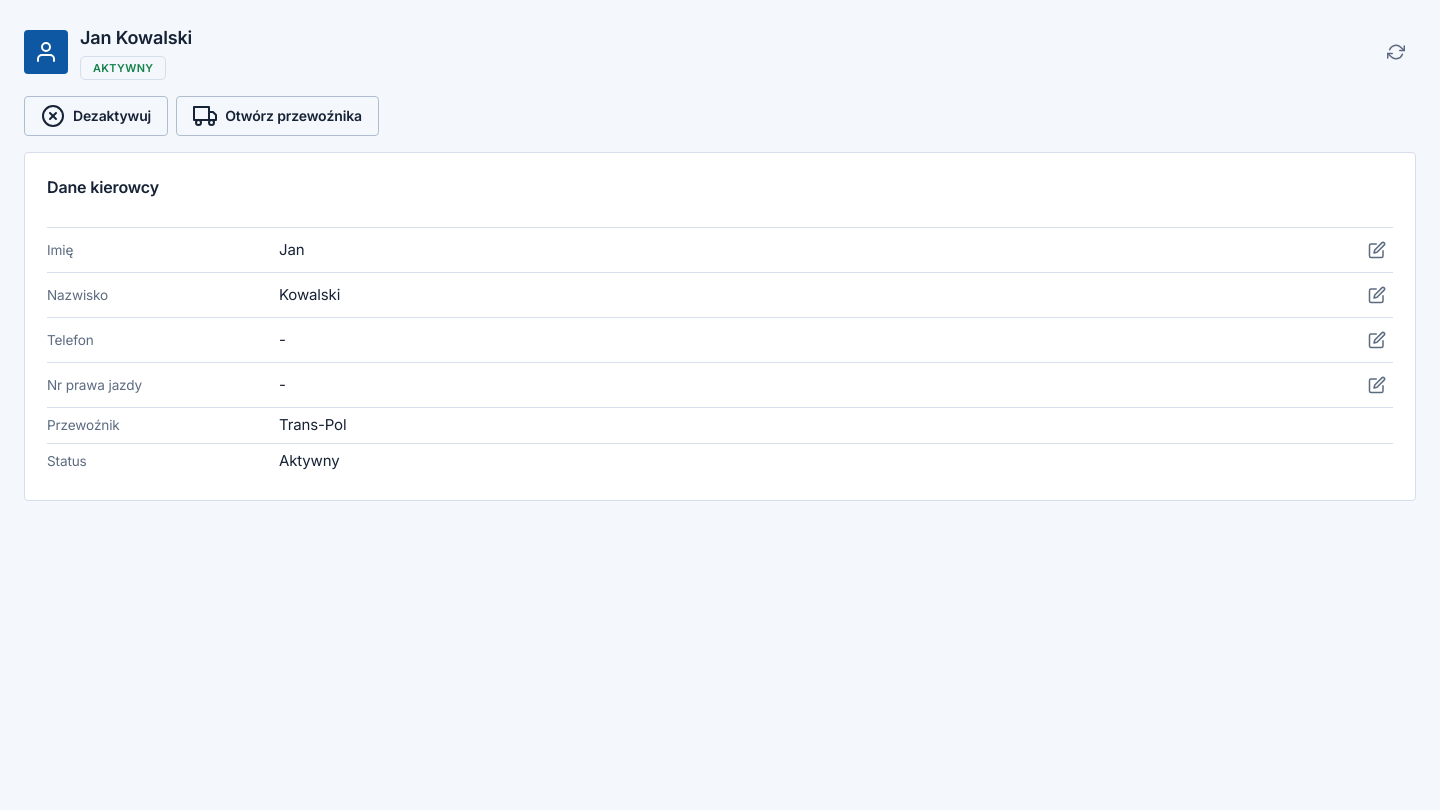
Test: DriverDetailsView › edits a single driver field
Expected: the heading "Jan Kowalski" is shown, [80, 24, 192, 52]
Click the button named "Edytuj: Nr prawa jazdy". click: [1377, 385]
box: [1361, 369, 1393, 401]
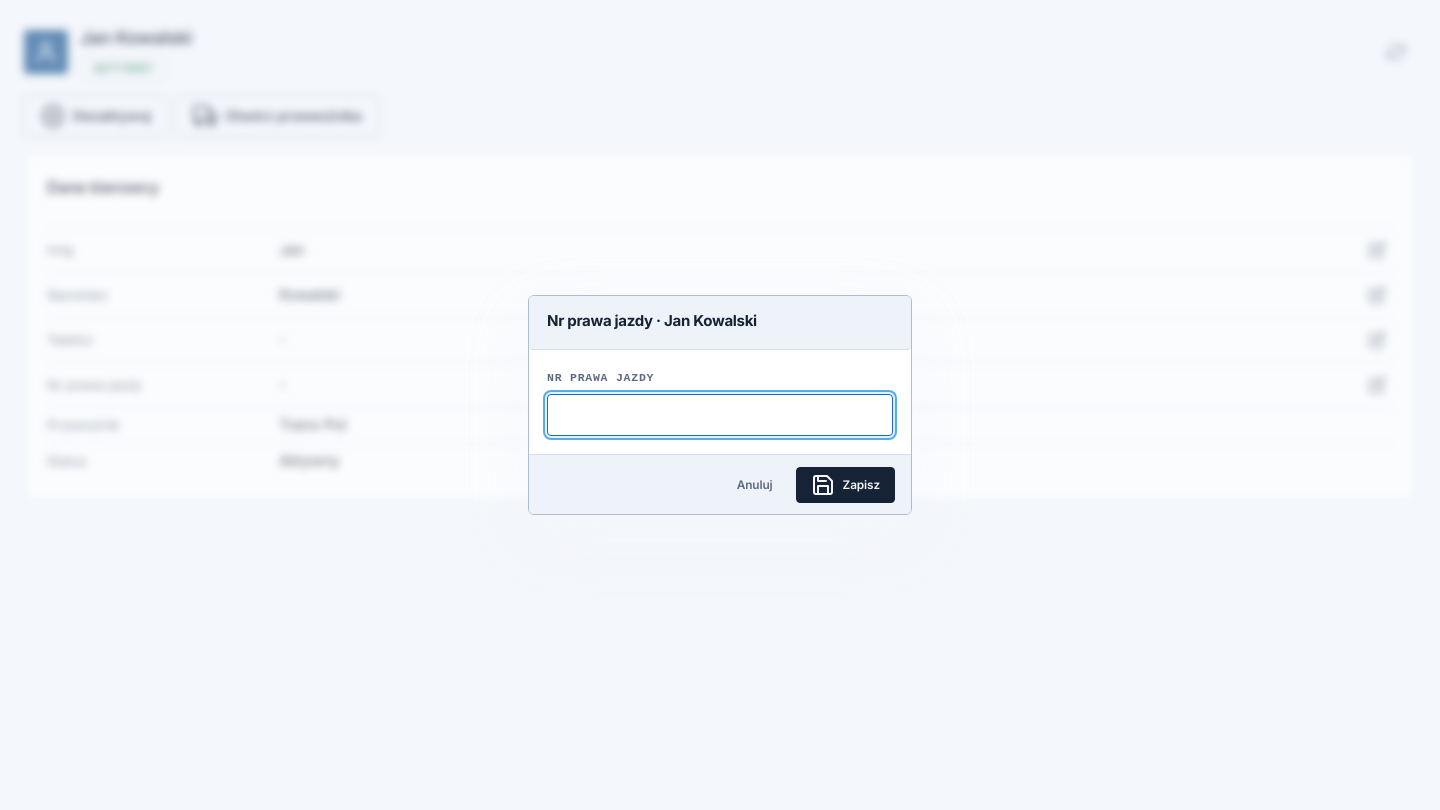
Type "ABC123" into the field labelled "Nr prawa jazdy". click: [720, 415]
box: [547, 394, 893, 436]
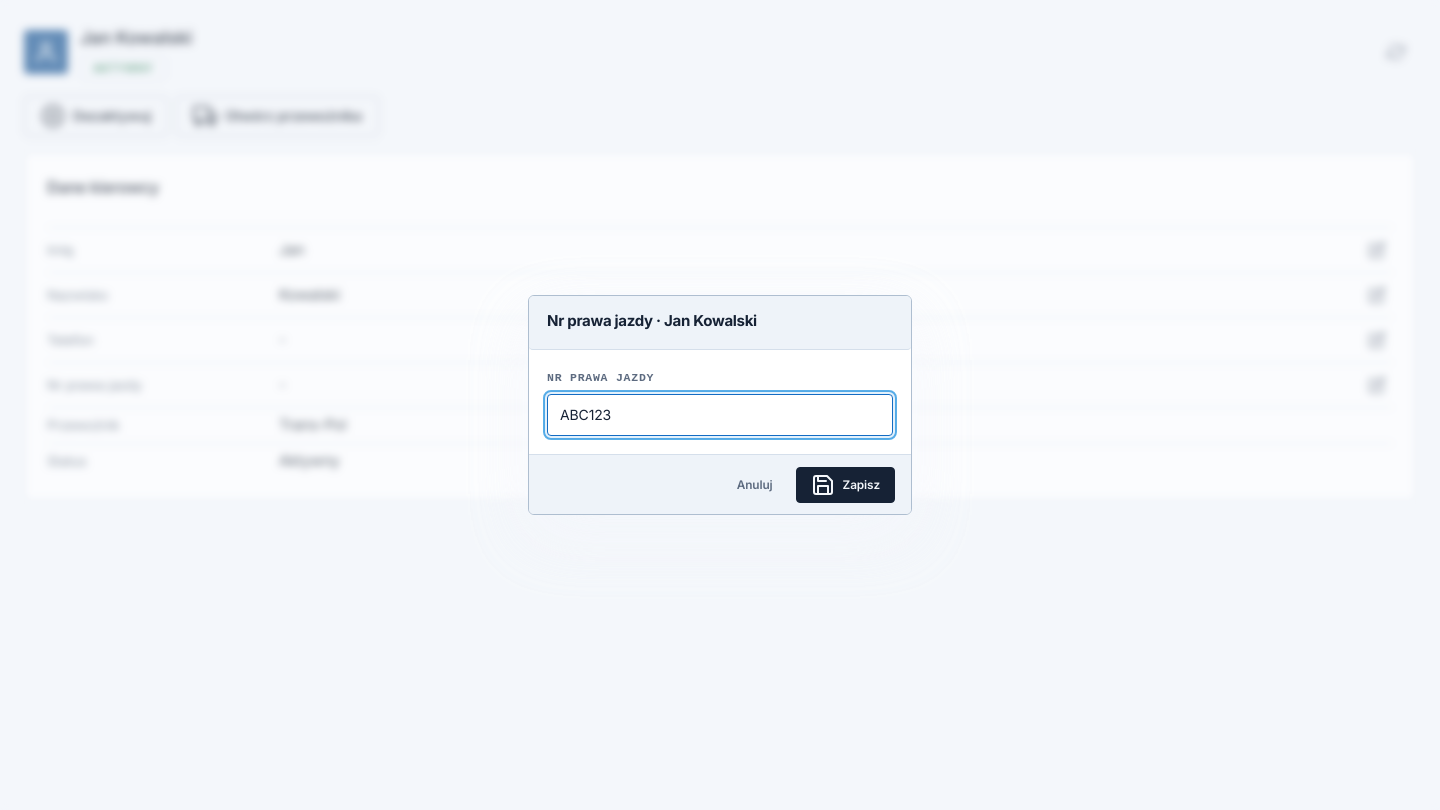
Click the button "Zapisz". click: [845, 484]
box: [796, 466, 895, 502]
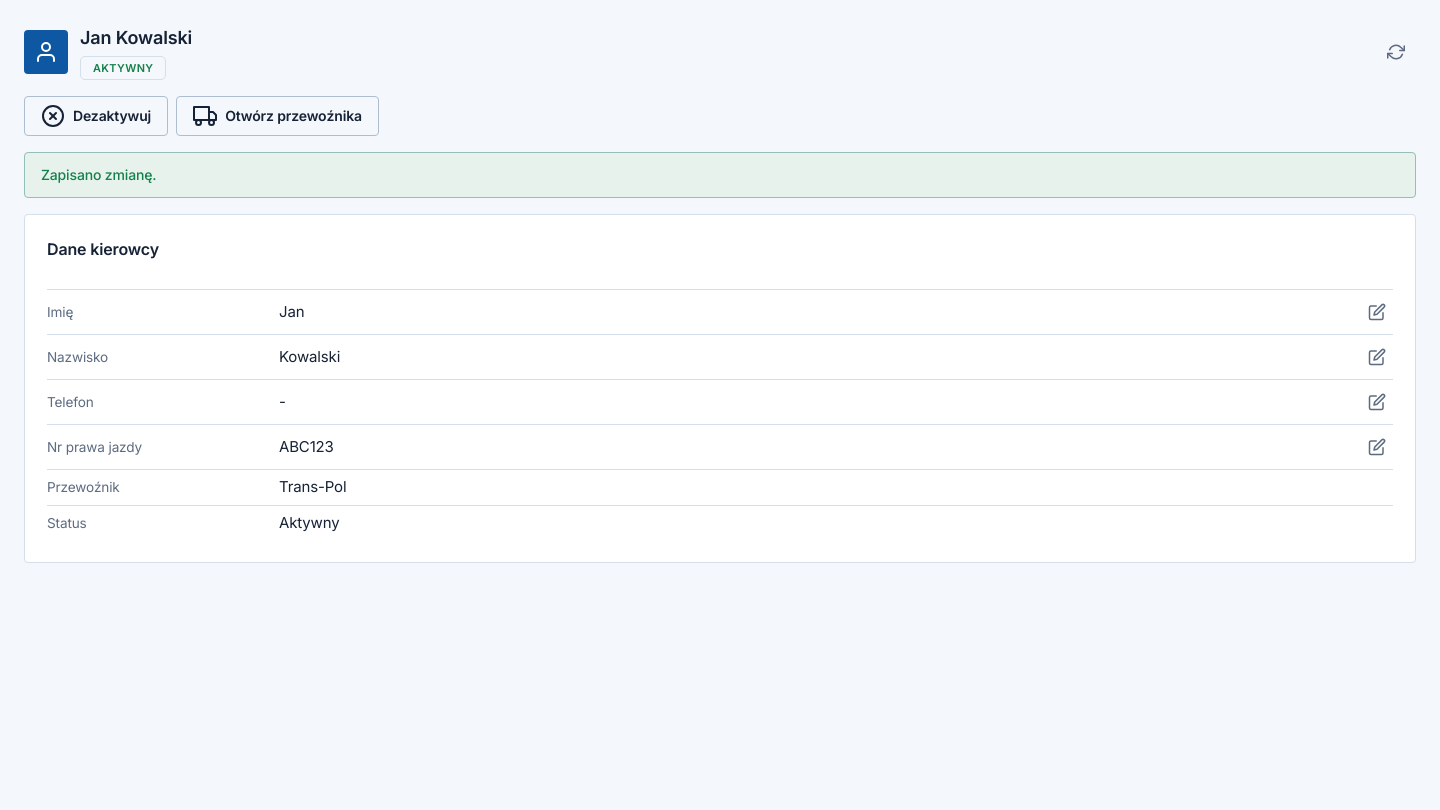
Now the text "ABC123" is shown, box [279, 436, 334, 458]
